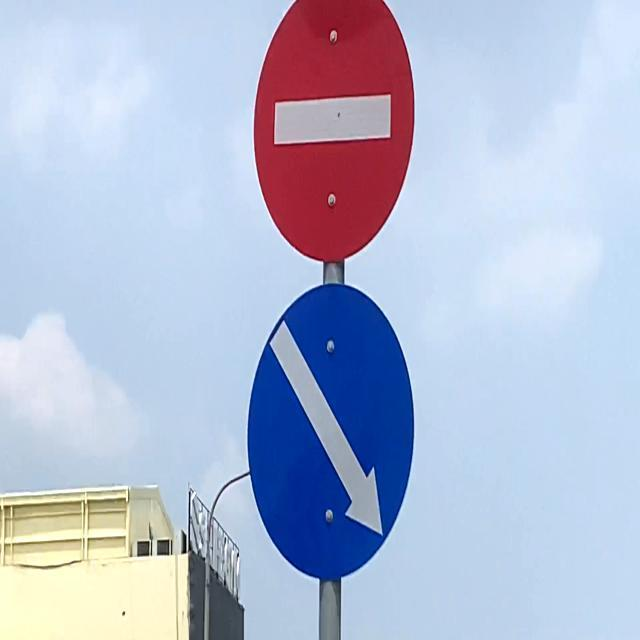102-cam-di-nguoc-chieu: (250, 0, 417, 264)
302a-huong-phai-di-vong-chuong-ngai-vat-1: (247, 282, 416, 579)
